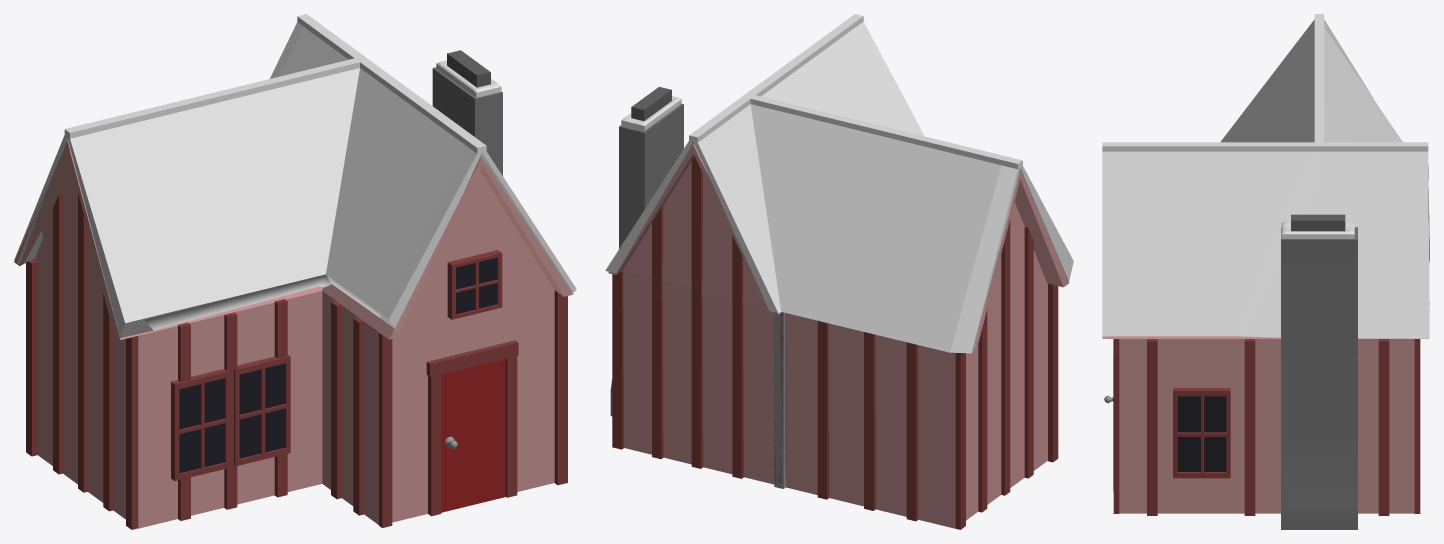
File: WinterHouse.fbx
3 views of the same model, side by side, from view 1: azimuth 30°, elevation 25°; view 2: azimuth 150°, elevation 25°; view 3: azimuth 270°, elevation 25° (orthographic). The views are drawn at different scales.
Parts seen in each view (by area): view 1: pCube42, pCube4, pCube9, pPlane1, pPlane2, pCube5, pCube3, pCube26, pCube28, pCube14, pCube15, pCube2 (+15 smaller); view 2: pCube42, pCube4, pCube5, pCube19, pCube18, pCube20, pCube26, pCube27, pCube24, pCube22, pCube23, pCube12 (+6 smaller); view 3: pCube42, pCube4, pCube5, pPlane4, pCube6, pCube38, pCube39, pCube37, pCube12, pCube14, pCube7, pCube41.
Boxes of the visible parts, left/top/right/bottom form: pCube42: left=14, top=14, right=576, bottom=337; pCube4: left=14, top=140, right=573, bottom=528; pCube9: left=441, top=358, right=505, bottom=512; pPlane1: left=179, top=378, right=224, bottom=473; pPlane2: left=239, top=363, right=285, bottom=458; pCube5: left=432, top=67, right=502, bottom=175; pCube3: left=171, top=369, right=230, bottom=480; pCube26: left=78, top=193, right=87, bottom=492; pCube28: left=53, top=194, right=62, bottom=474; pCube14: left=554, top=290, right=567, bottom=485; pCube15: left=379, top=333, right=392, bottom=527; pCube2: left=234, top=354, right=290, bottom=466; pCube42: left=605, top=14, right=1073, bottom=353; pCube4: left=608, top=144, right=1069, bottom=528; pCube5: left=610, top=104, right=683, bottom=416; pCube19: left=691, top=155, right=703, bottom=468; pCube18: left=652, top=207, right=663, bottom=458; pCube20: left=732, top=235, right=743, bottom=478; pCube26: left=1001, top=219, right=1010, bottom=495; pCube27: left=1024, top=227, right=1033, bottom=478; pCube24: left=906, top=342, right=918, bottom=521; pCube22: left=817, top=321, right=829, bottom=499; pCube23: left=864, top=332, right=875, bottom=510; pCube12: left=612, top=270, right=624, bottom=449; pCube42: left=1102, top=14, right=1429, bottom=338; pCube4: left=1102, top=175, right=1429, bottom=513; pCube5: left=1281, top=227, right=1357, bottom=529; pPlane4: left=1177, top=396, right=1226, bottom=471; pCube6: left=1173, top=388, right=1230, bottom=478; pCube38: left=1244, top=339, right=1255, bottom=515; pCube39: left=1378, top=339, right=1389, bottom=515; pCube37: left=1147, top=339, right=1157, bottom=515; pCube12: left=1414, top=339, right=1420, bottom=513; pCube14: left=1113, top=339, right=1119, bottom=513; pCube7: left=1291, top=214, right=1345, bottom=231; pCube41: left=1281, top=221, right=1354, bottom=238.
Bounding box in the file's own units: 115 × 94.08 × 84.92.
